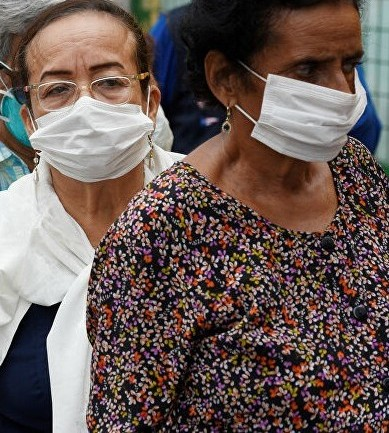with_mask: (16, 2, 166, 181), (217, 8, 373, 166), (1, 1, 59, 188)
